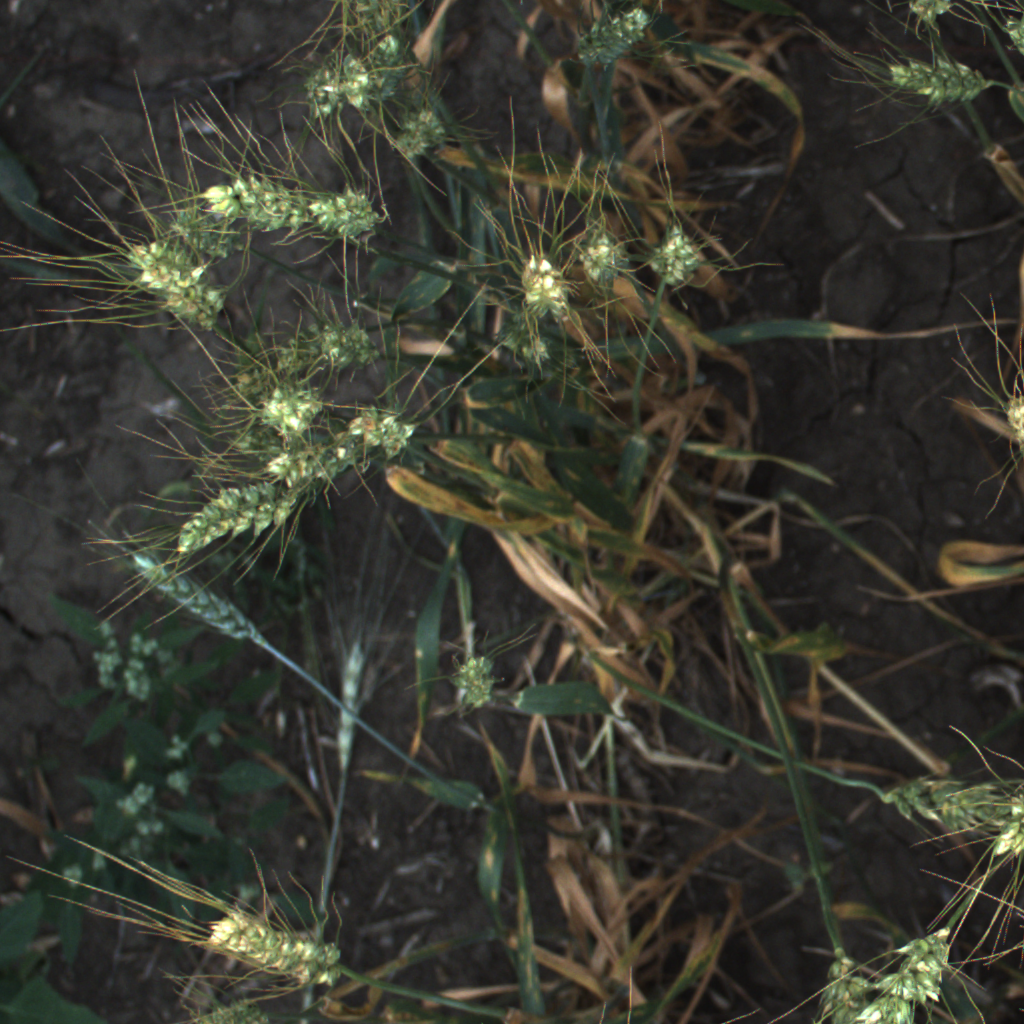wheat_head: (178, 154, 348, 298), (199, 888, 374, 1000), (145, 463, 324, 568), (117, 533, 266, 651), (111, 222, 244, 338), (876, 746, 1024, 840), (860, 912, 978, 1024), (303, 161, 399, 261), (559, 0, 682, 76), (427, 634, 521, 728), (879, 43, 992, 119), (494, 240, 581, 337), (560, 210, 640, 303), (241, 433, 375, 485), (345, 402, 447, 468), (241, 373, 336, 443), (799, 930, 869, 1020), (307, 311, 391, 383), (643, 218, 712, 299), (385, 99, 458, 167), (289, 42, 351, 122), (324, 35, 372, 131), (983, 360, 1024, 463), (363, 20, 409, 98), (260, 324, 327, 375), (984, 797, 1024, 869), (869, 0, 972, 25)
